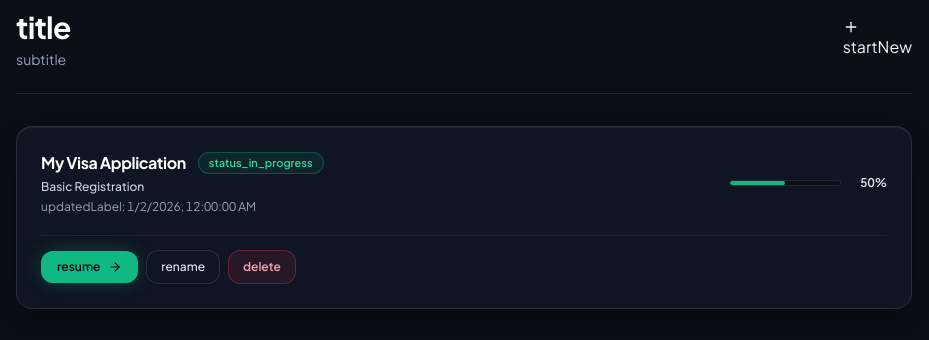
Test: My Applications page › renames an application in place
Expected: the heading "My Visa Application" is shown, [41,151,186,175]
Click the button "rename". click: (183, 267)
box: [146,250,220,284]
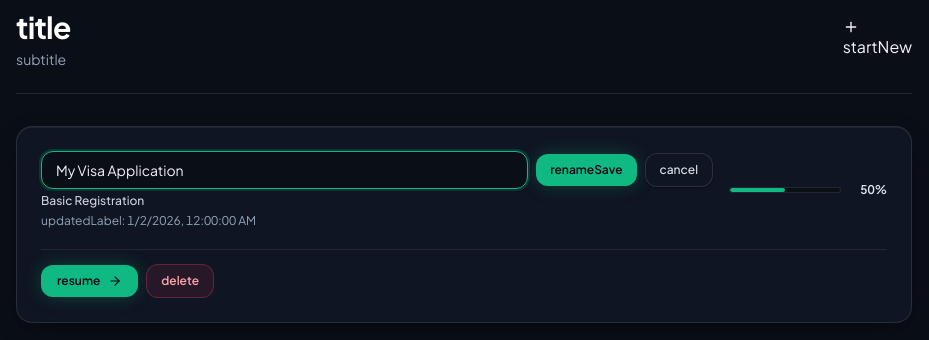
Replace the text in the field showing "My Visa Application" with "Renamed Application". click: (285, 170)
box: [41,151,528,189]
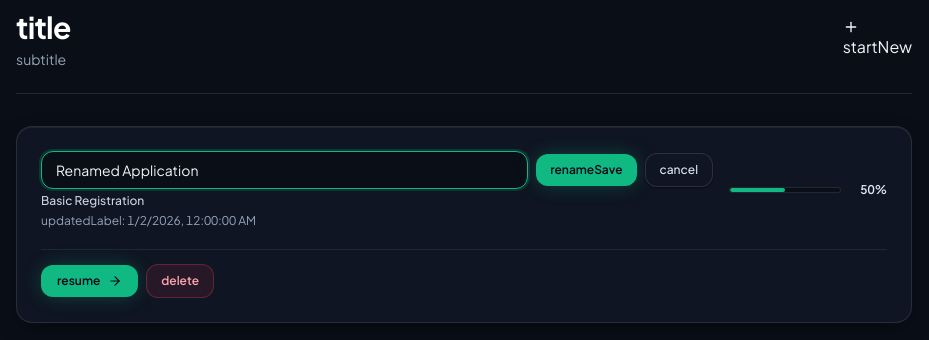
Click the button "renameSave". click: (586, 170)
box: [536,154,637,186]
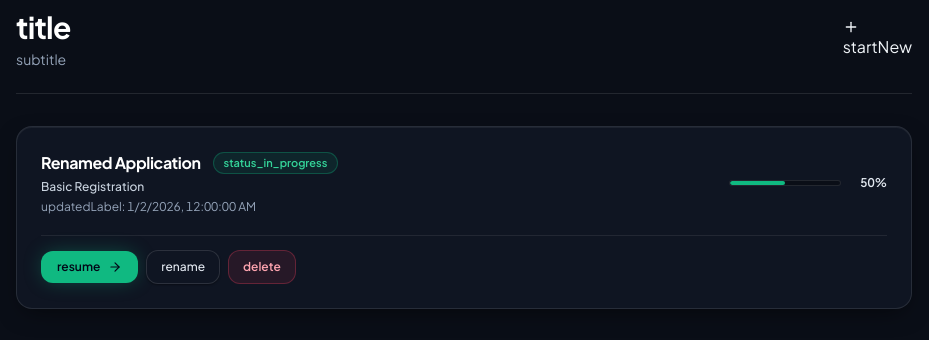
Now the heading "Renamed Application" is shown, box [41,151,201,175]
